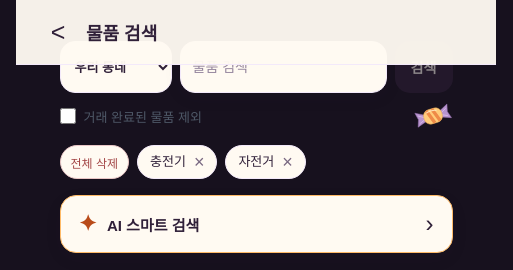
Test: 전체 삭제를 누르면 모든 검색 기록을 삭제한다
The width and height of the screenshot is (513, 270).
Expected: the text "충전기" is shown, [150,153,186,171]
Step 1. Click the button "전체 삭제" → click(94, 162), box [60,145,129,179]
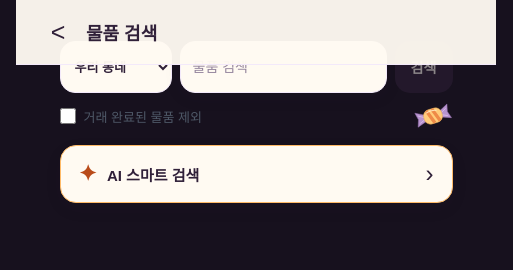
Now the text "충전기" is gone
Now the text "자전거" is gone
Now the button "전체 삭제" is gone
